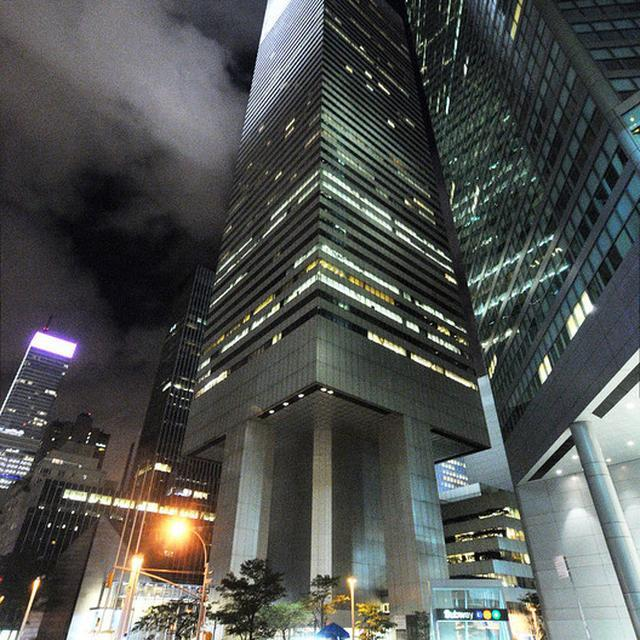building: (182, 0, 496, 640), (405, 4, 640, 640), (122, 251, 230, 588), (0, 306, 76, 483)
